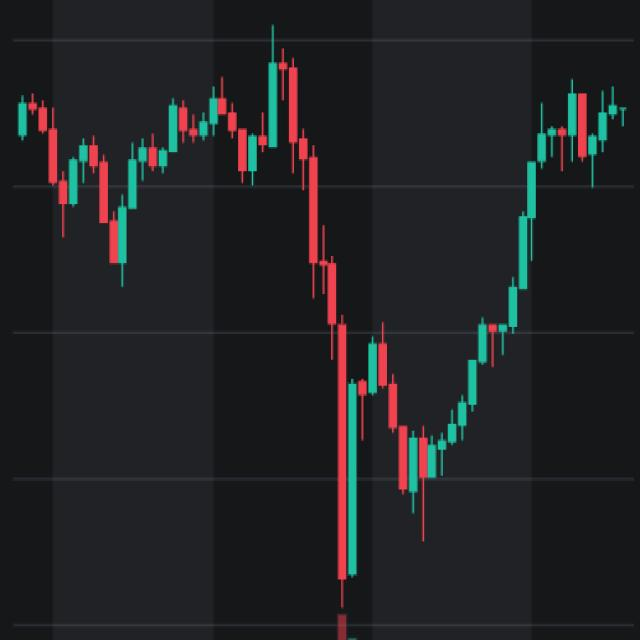Inverse-Head-Shoulders: (299, 109, 562, 496)
